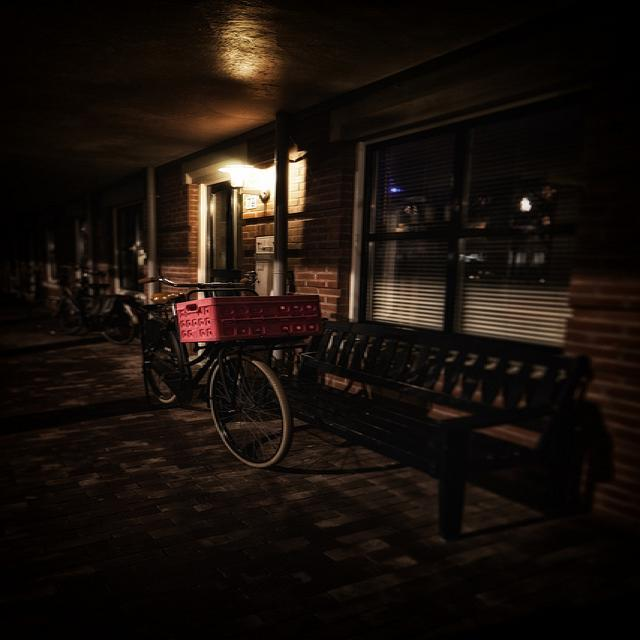Bicycle: (103, 233, 359, 486)
chair: (287, 299, 640, 542)
